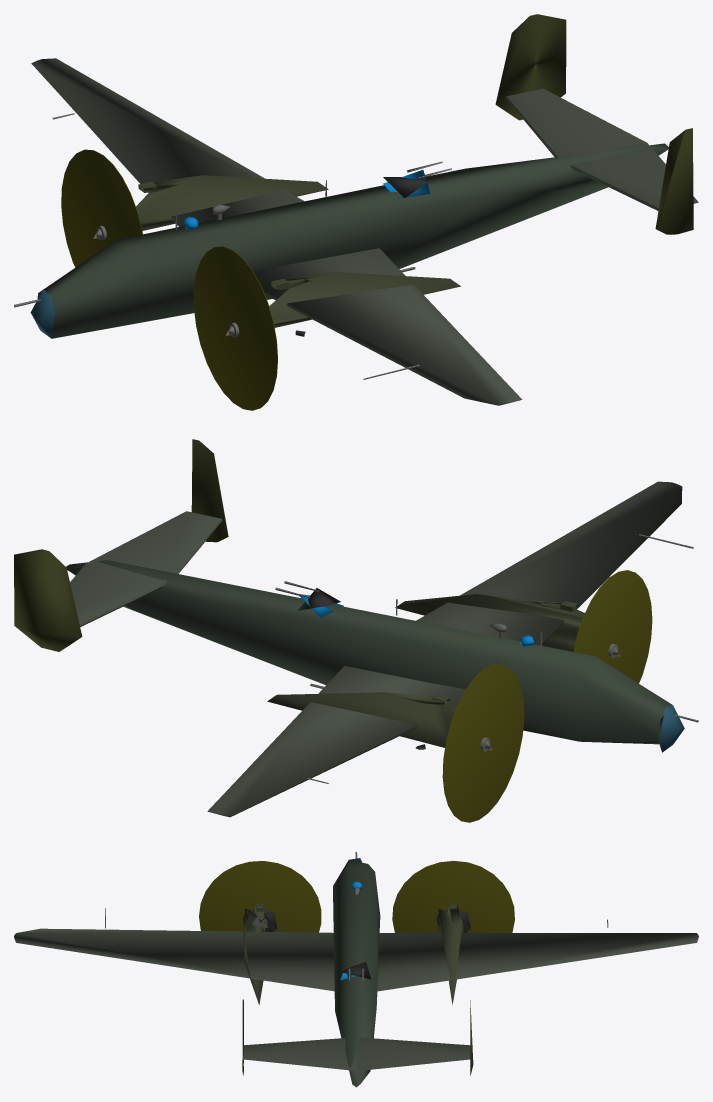
The picture shows the model from 3 angles, top to bottom: view 1: azimuth 30°, elevation 25°; view 2: azimuth 150°, elevation 25°; view 3: azimuth 270°, elevation 25°; orthographic projection. The views are drawn at different scales.
Visible parts, largest first — view 1: S_22-FACES, KRILO_LEV-FACES, Line02-FACES, Cylinder05-FACES, Cylinder04-FACES, DVIG_PRAV-FACES, Line04-FACES, Line13-FACES, DVIG_LEV-FACES, Line03-FACES, Line15-FACES, NOS-FACES; view 2: S_22-FACES, KRILO_LEV-FACES, Line02-FACES, Cylinder04-FACES, Cylinder05-FACES, Line13-FACES, DVIG_PRAV-FACES, Line03-FACES, Line04-FACES, DVIG_LEV-FACES, Line15-FACES, NOS-FACES; view 3: KRILO_LEV-FACES, Line02-FACES, S_22-FACES, Cylinder04-FACES, Cylinder05-FACES, Line04-FACES, Line03-FACES, DVIG_PRAV-FACES, DVIG_LEV-FACES.
Boxes of the visible parts, x1,y1,x2,y2 form: S_22-FACES: (37,143,668,338); KRILO_LEV-FACES: (253,248,522,405); Line02-FACES: (31,58,303,226); Cylinder05-FACES: (193,246,277,410); Cylinder04-FACES: (61,149,142,267); DVIG_PRAV-FACES: (136,175,328,230); Line04-FACES: (506,88,646,157); Line13-FACES: (495,14,566,120); DVIG_LEV-FACES: (269,272,460,327); Line03-FACES: (570,142,698,210); Line15-FACES: (655,128,693,234); NOS-FACES: (30,289,54,338); S_22-FACES: (66,560,672,744); KRILO_LEV-FACES: (416,481,682,645); Line02-FACES: (207,666,465,817); Cylinder04-FACES: (442,664,524,822); Cylinder05-FACES: (573,570,652,683); Line13-FACES: (14,549,82,651); DVIG_PRAV-FACES: (267,692,456,747); Line03-FACES: (87,511,222,573); Line04-FACES: (70,563,167,626); DVIG_LEV-FACES: (395,594,584,651); Line15-FACES: (191,439,228,542); NOS-FACES: (658,705,684,752); KRILO_LEV-FACES: (14,928,334,991); Line02-FACES: (377,933,698,991); S_22-FACES: (333,860,380,1087); Cylinder04-FACES: (392,860,514,932); Cylinder05-FACES: (199,861,321,932); Line04-FACES: (357,1037,470,1070); Line03-FACES: (243,1038,356,1070); DVIG_PRAV-FACES: (438,903,465,1004); DVIG_LEV-FACES: (243,903,272,1004).
Size of the model in its own units: 16.64 by 4.28 by 20.62.
